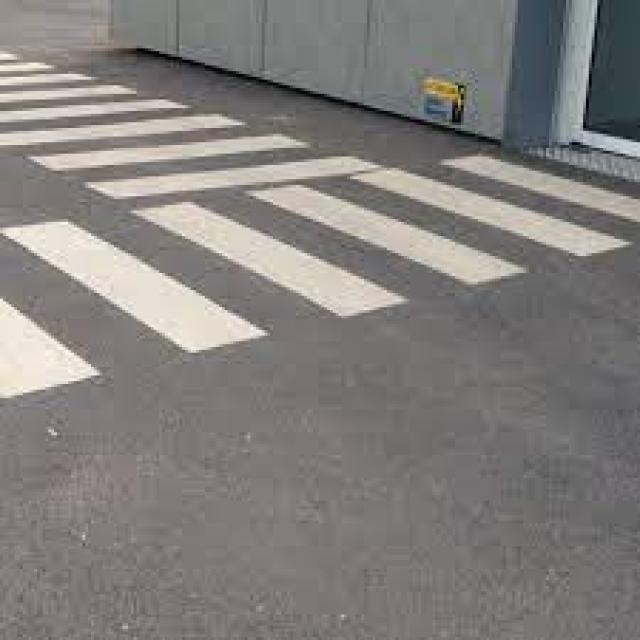crosswalk: (0, 148, 640, 401), (0, 51, 386, 199)
